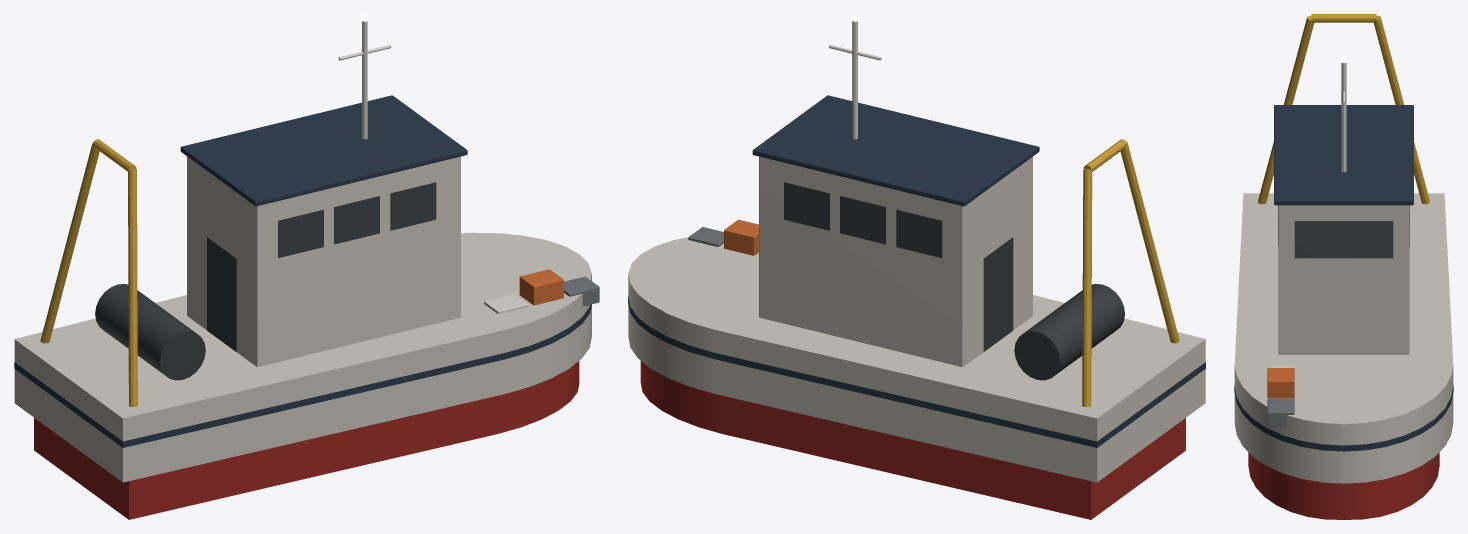
The model's file is veh_trawler.glb.
The picture shows the model from 3 angles, left to right: view 1: azimuth 30°, elevation 25°; view 2: azimuth 150°, elevation 25°; view 3: azimuth 270°, elevation 25°; orthographic projection. The views are drawn at different scales.
Parts seen in each view (by area): view 1: Hull; view 2: Hull; view 3: Hull.
Boxes of the visible parts, box(x1,y1,x2,y2) form: Hull: box(14, 14, 599, 519); Hull: box(628, 14, 1205, 519); Hull: box(1234, 14, 1453, 519).
Size of the model in its own units: 10.01 by 7.52 by 4.01.
